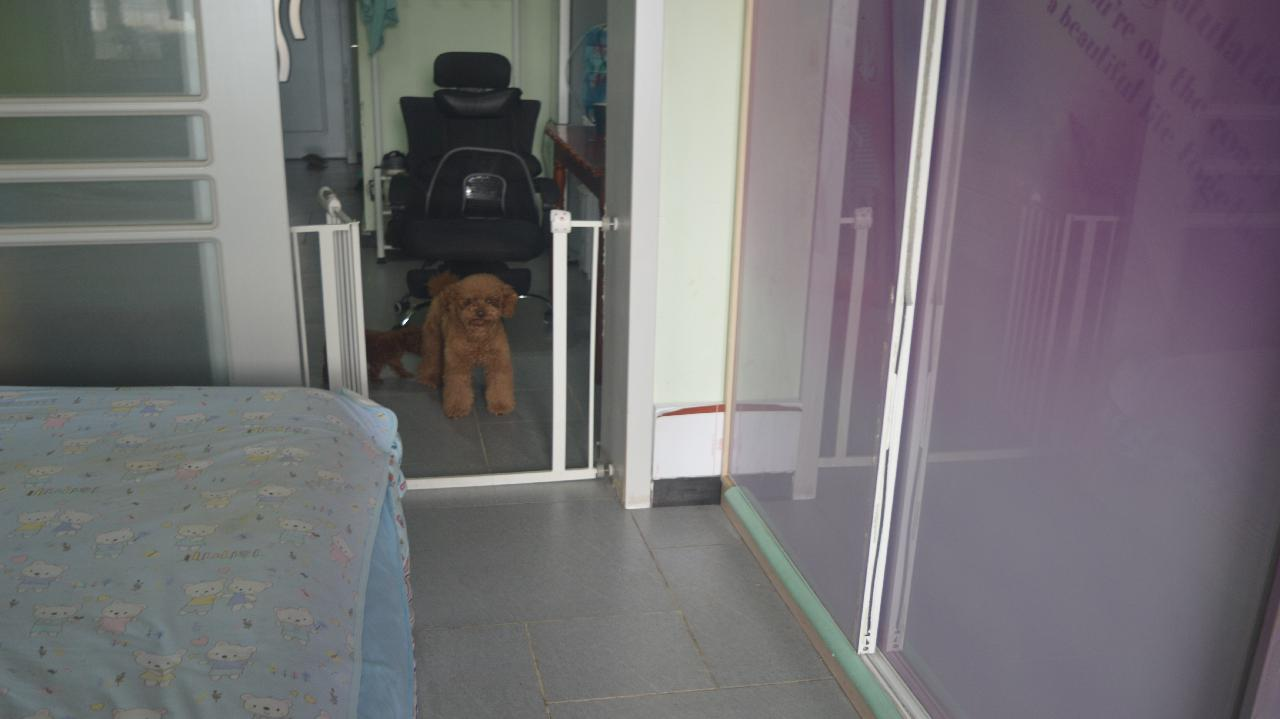coin: (363, 327, 428, 398)
zhuangzhuang: (411, 271, 532, 417)
